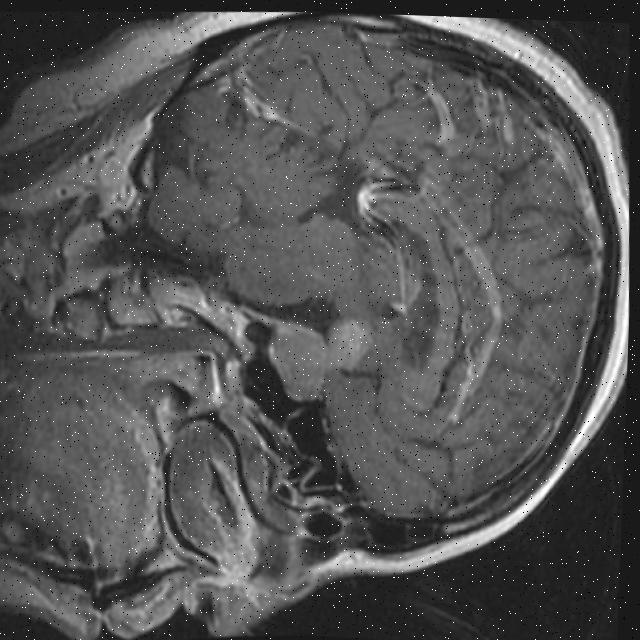Pituitary: (263, 319, 329, 405), (325, 316, 375, 374)
